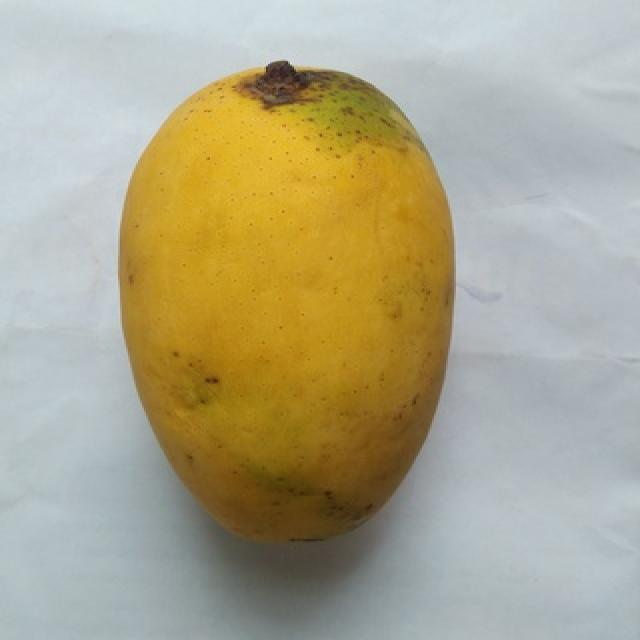Mango: (120, 62, 450, 539)
